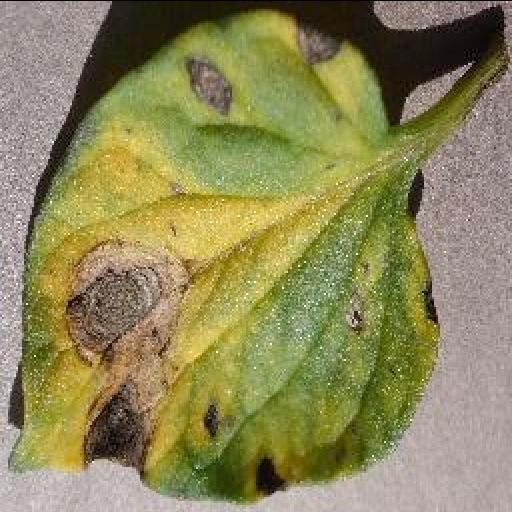disease_tomato: (6, 9, 440, 501)
